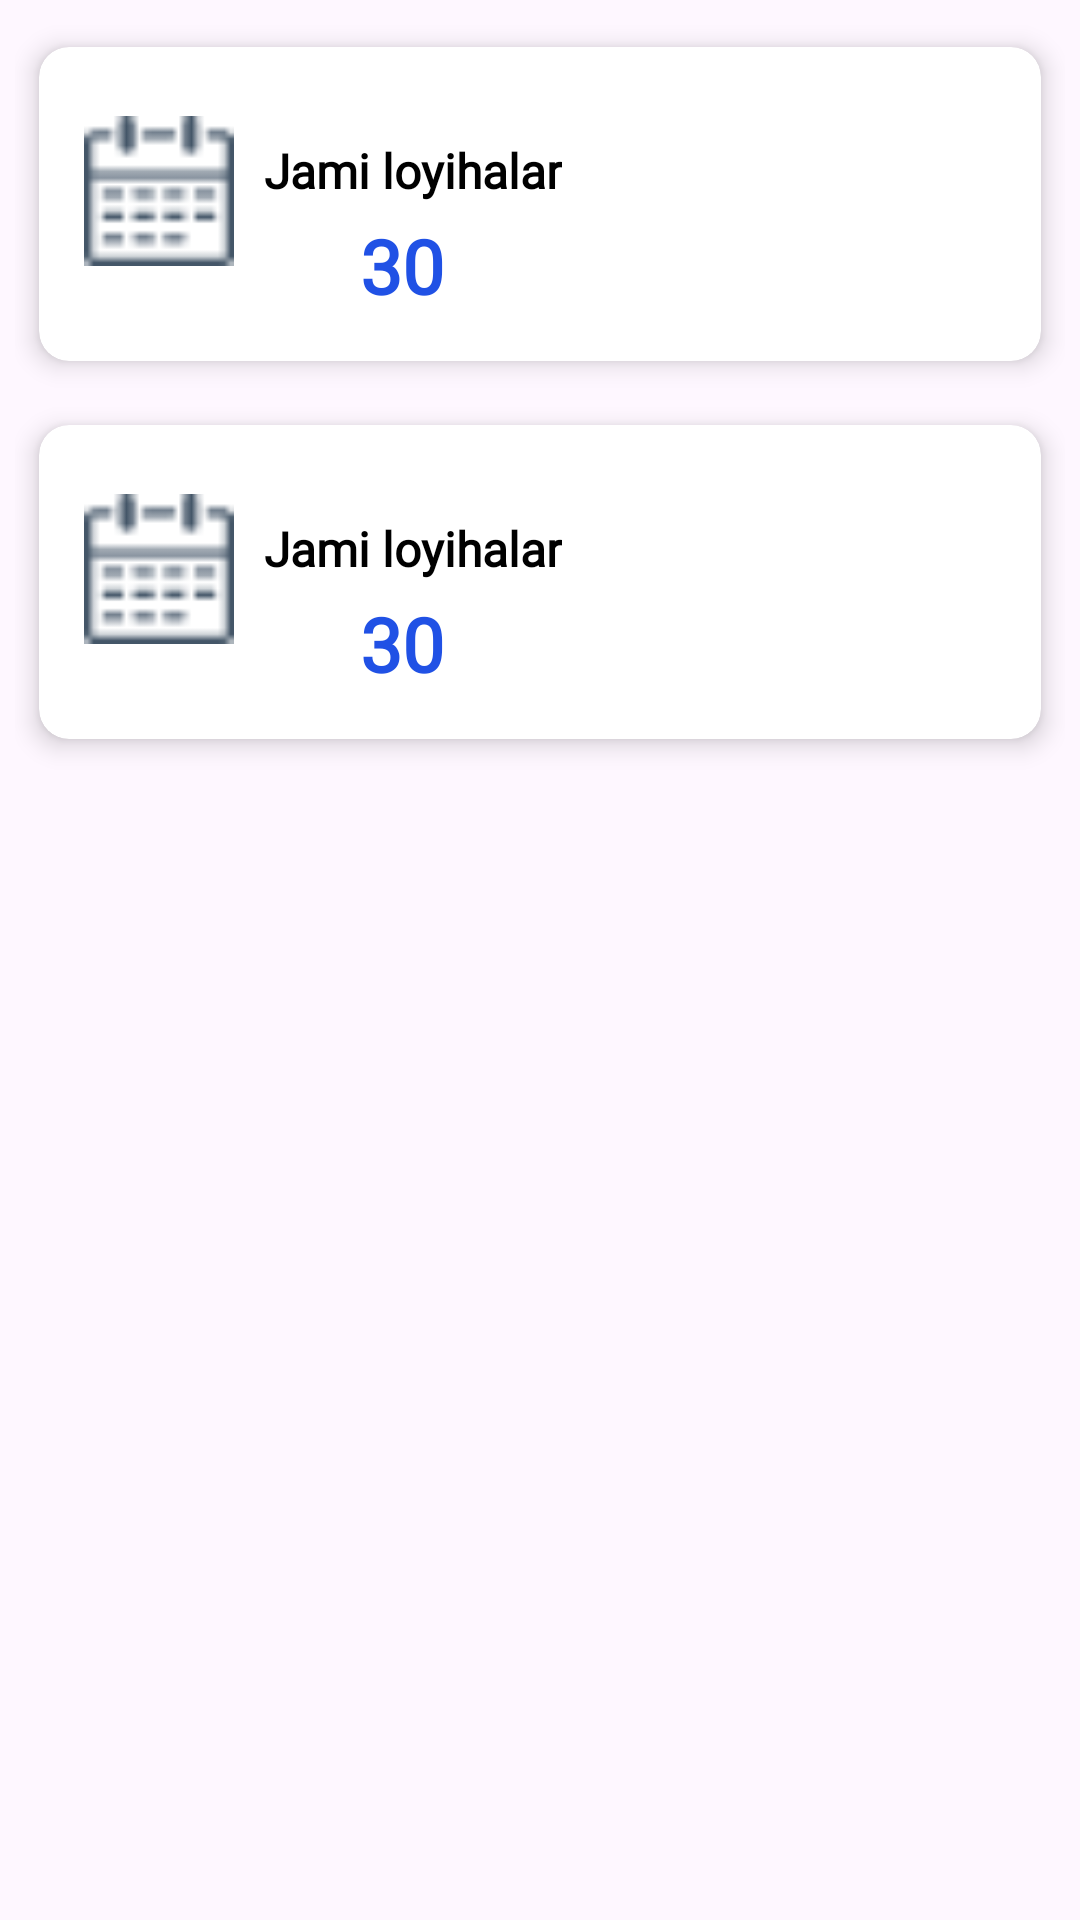

Named icons in this screenshot (1080×1920) and their bounding boxes, {"x1": x1, "y1": y1, "x2": x2, "y2": y2}:
calendar: {"x1": 84, "y1": 116, "x2": 234, "y2": 266}, {"x1": 84, "y1": 494, "x2": 234, "y2": 644}
